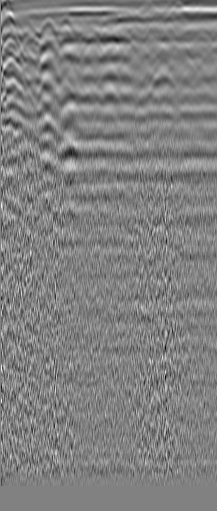오수: (34, 15, 60, 44)
우수: (176, 24, 203, 44)
